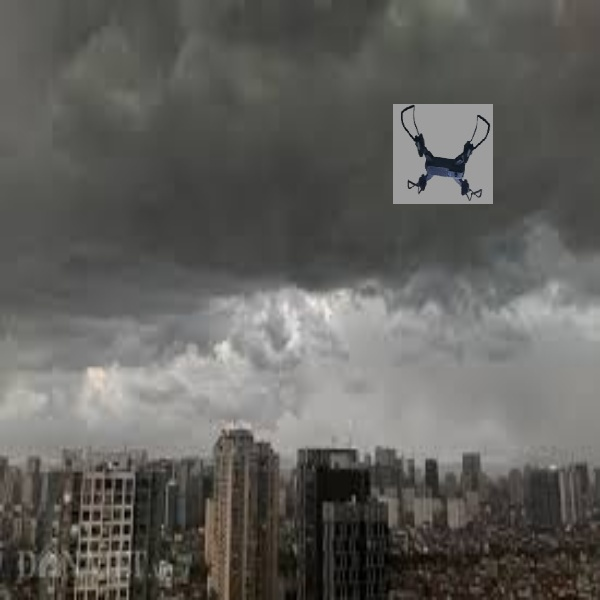drone: (392, 103, 492, 203)
